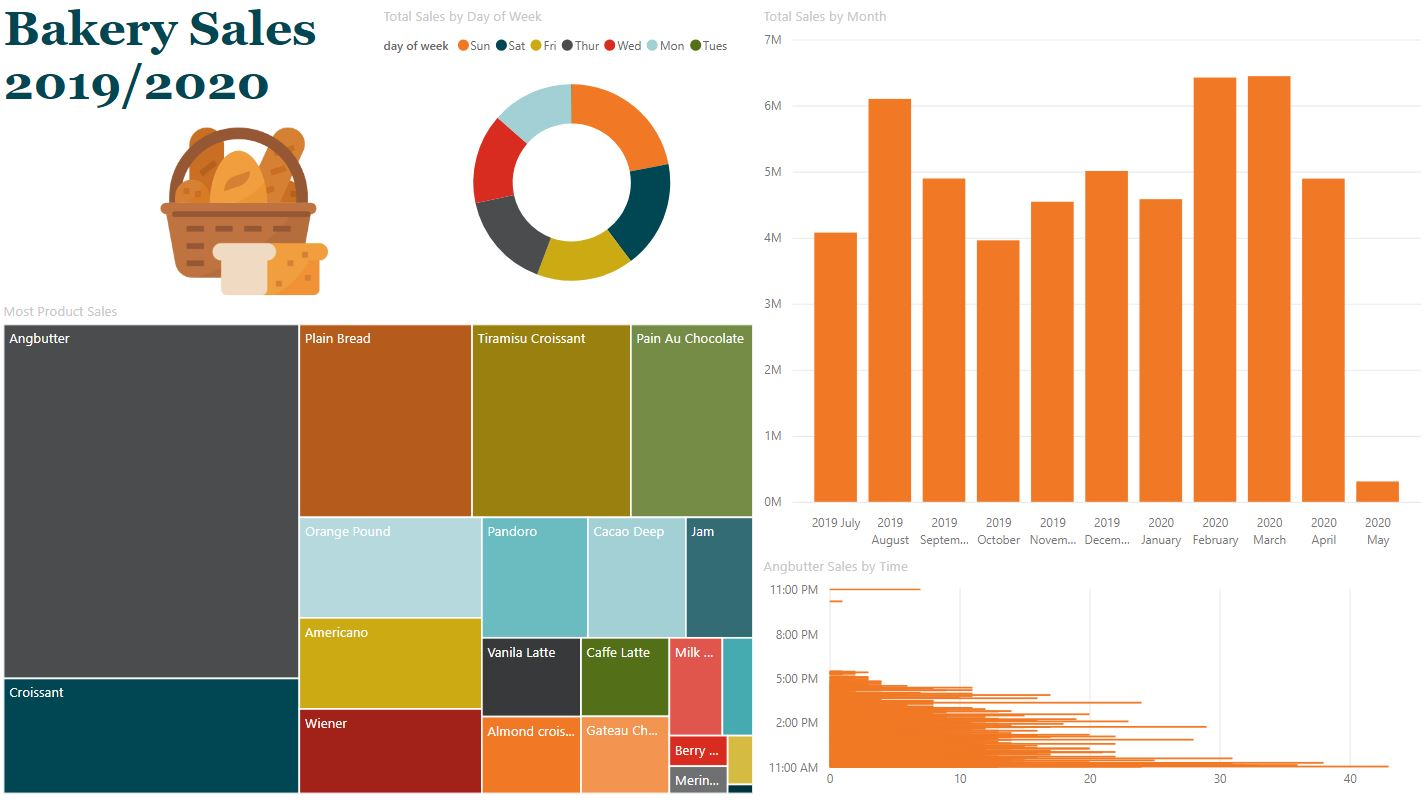

This screenshot's page, from the dashboard's own definition file:
{"tool":"powerbi","page":{"name":"Page 1","canvas":[1280,720],"ordinal":0},"visuals":[{"type":"treemap","title":"Most Product Sales","fields":{"Values":["Sum(Bakery Sales.almond croissant)","Sum(Bakery Sales.croissant)","Sum(Bakery Sales.americano)","Sum(Bakery Sales.angbutter)","Sum(Bakery Sales.berry ade)","Sum(Bakery Sales.cacao deep)","Sum(Bakery Sales.caffe latte)","Sum(Bakery Sales.cheese cake)","Sum(Bakery Sales.croque monsieur)","Sum(Bakery Sales.gateau chocolat)","Sum(Bakery Sales.jam)","Sum(Bakery Sales.lemon ade)"]},"box":[0,273.3,680.9,446.4],"z":1},{"type":"columnChart","title":"Total Sales by Month","fields":{"Y":["Sum(Bakery Sales.total)"],"Category":["Bakery Sales.Date.Variation.Date Hierarchy.Year","Bakery Sales.Date.Variation.Date Hierarchy.Month"]},"box":[680.9,8.8,599.1,493.1],"z":2},{"type":"clusteredBarChart","title":"Angbutter Sales by Time","fields":{"Category":["Bakery Sales.Time"],"Y":["Sum(Bakery Sales.angbutter)"]},"box":[680.9,501.9,599.1,217.9],"z":3},{"type":"donutChart","title":"Total Sales by Day of Week","fields":{"Category":["Bakery Sales.day of week"],"Y":["Sum(Bakery Sales.total)"]},"box":[340.4,8.8,347.2,273.3],"z":4},{"type":"textbox","box":[0,0,324.9,112.8],"z":5},{"type":"image","box":[132.3,112.8,176,160.5],"z":6}]}

Visuals, with their boxes in screenshot pixels (x1, y1, x2, y2), scaled from the page's 1280x720 canvas onto the 1428x800 screenshot:
"Most Product Sales" treemap: 0 304 760 799
"Total Sales by Month" columnChart: 760 10 1427 558
"Angbutter Sales by Time" clusteredBarChart: 760 558 1427 799
"Total Sales by Day of Week" donutChart: 380 10 767 313
textbox: 0 0 362 125
image: 148 125 344 304
